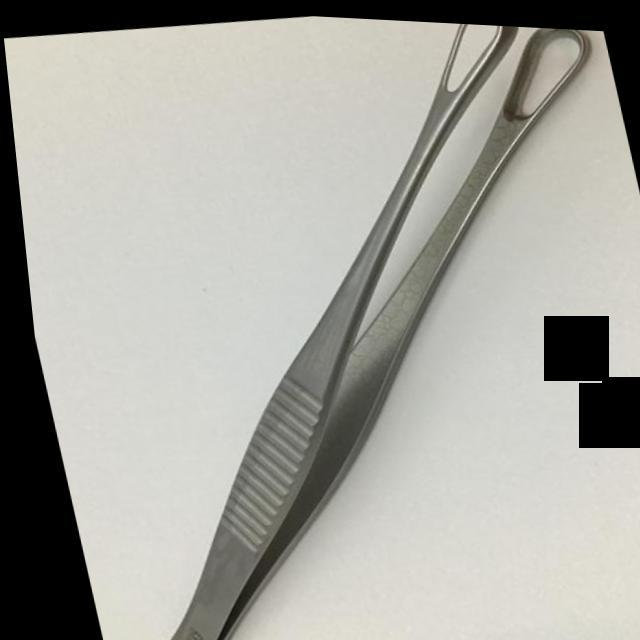Eye Intestinal Forceps: (8, 0, 640, 640)
